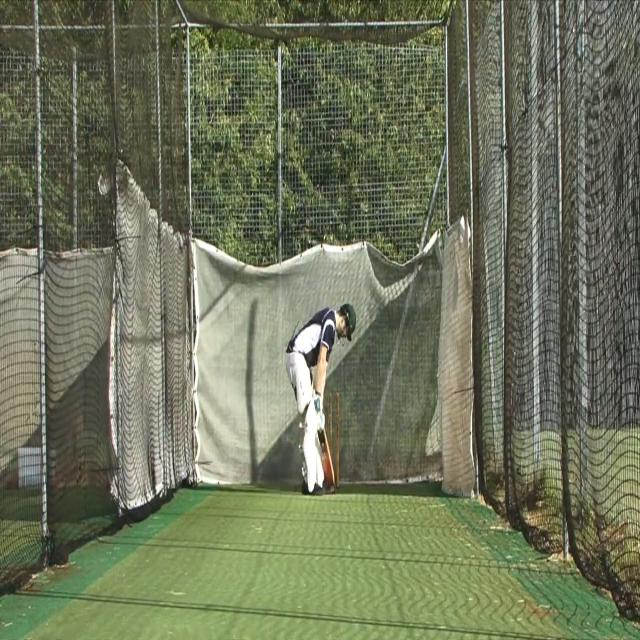batsman: (284, 301, 358, 498)
